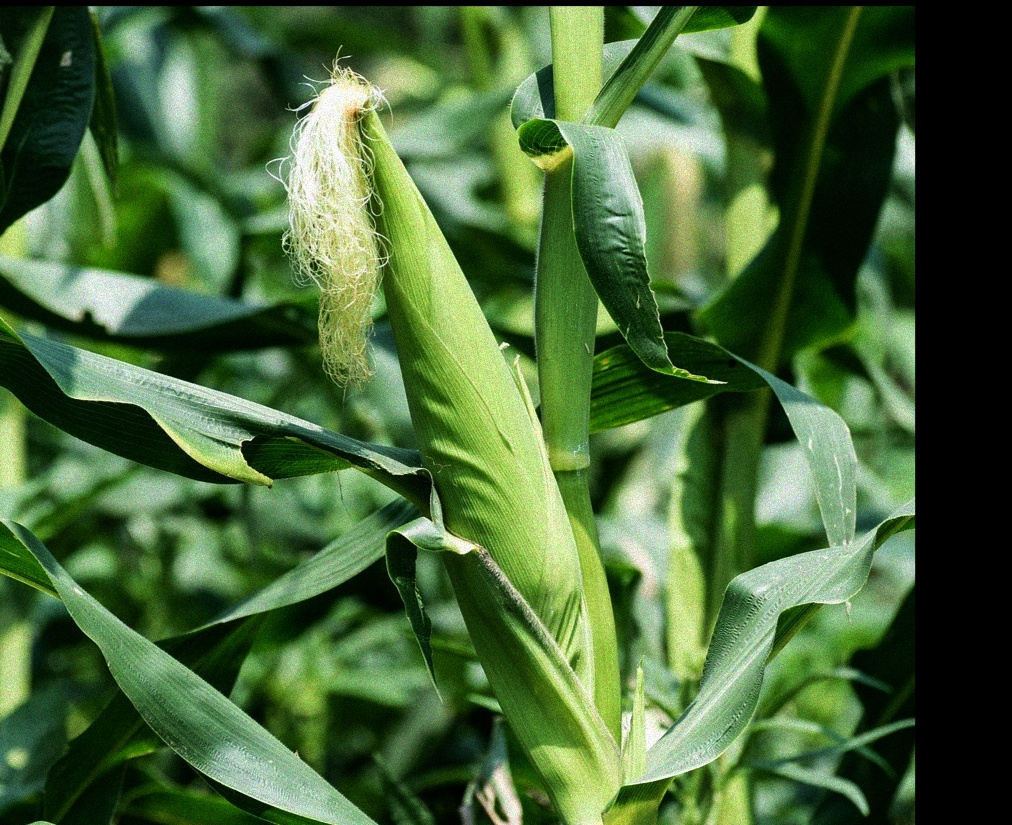corn_plant: (257, 67, 630, 781)
